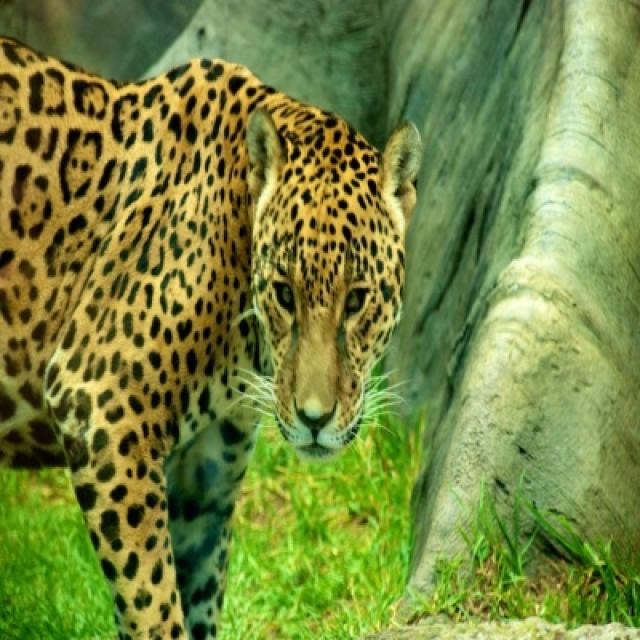Jaguar: (0, 35, 424, 638)
